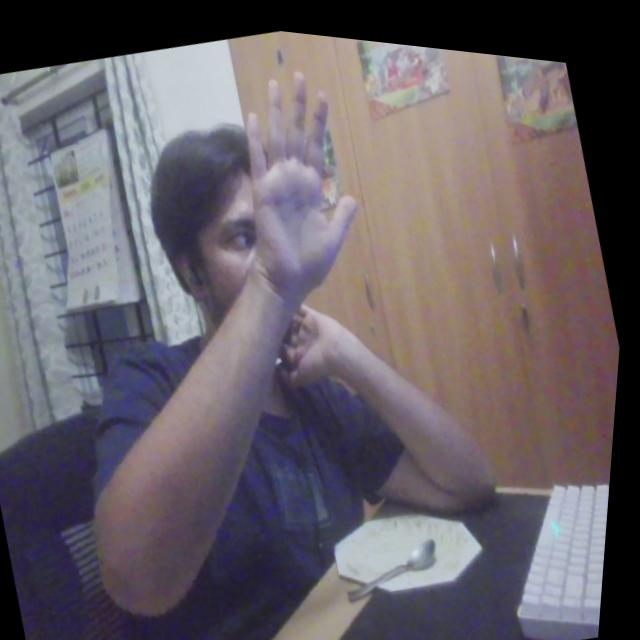hello: (210, 41, 398, 310)
